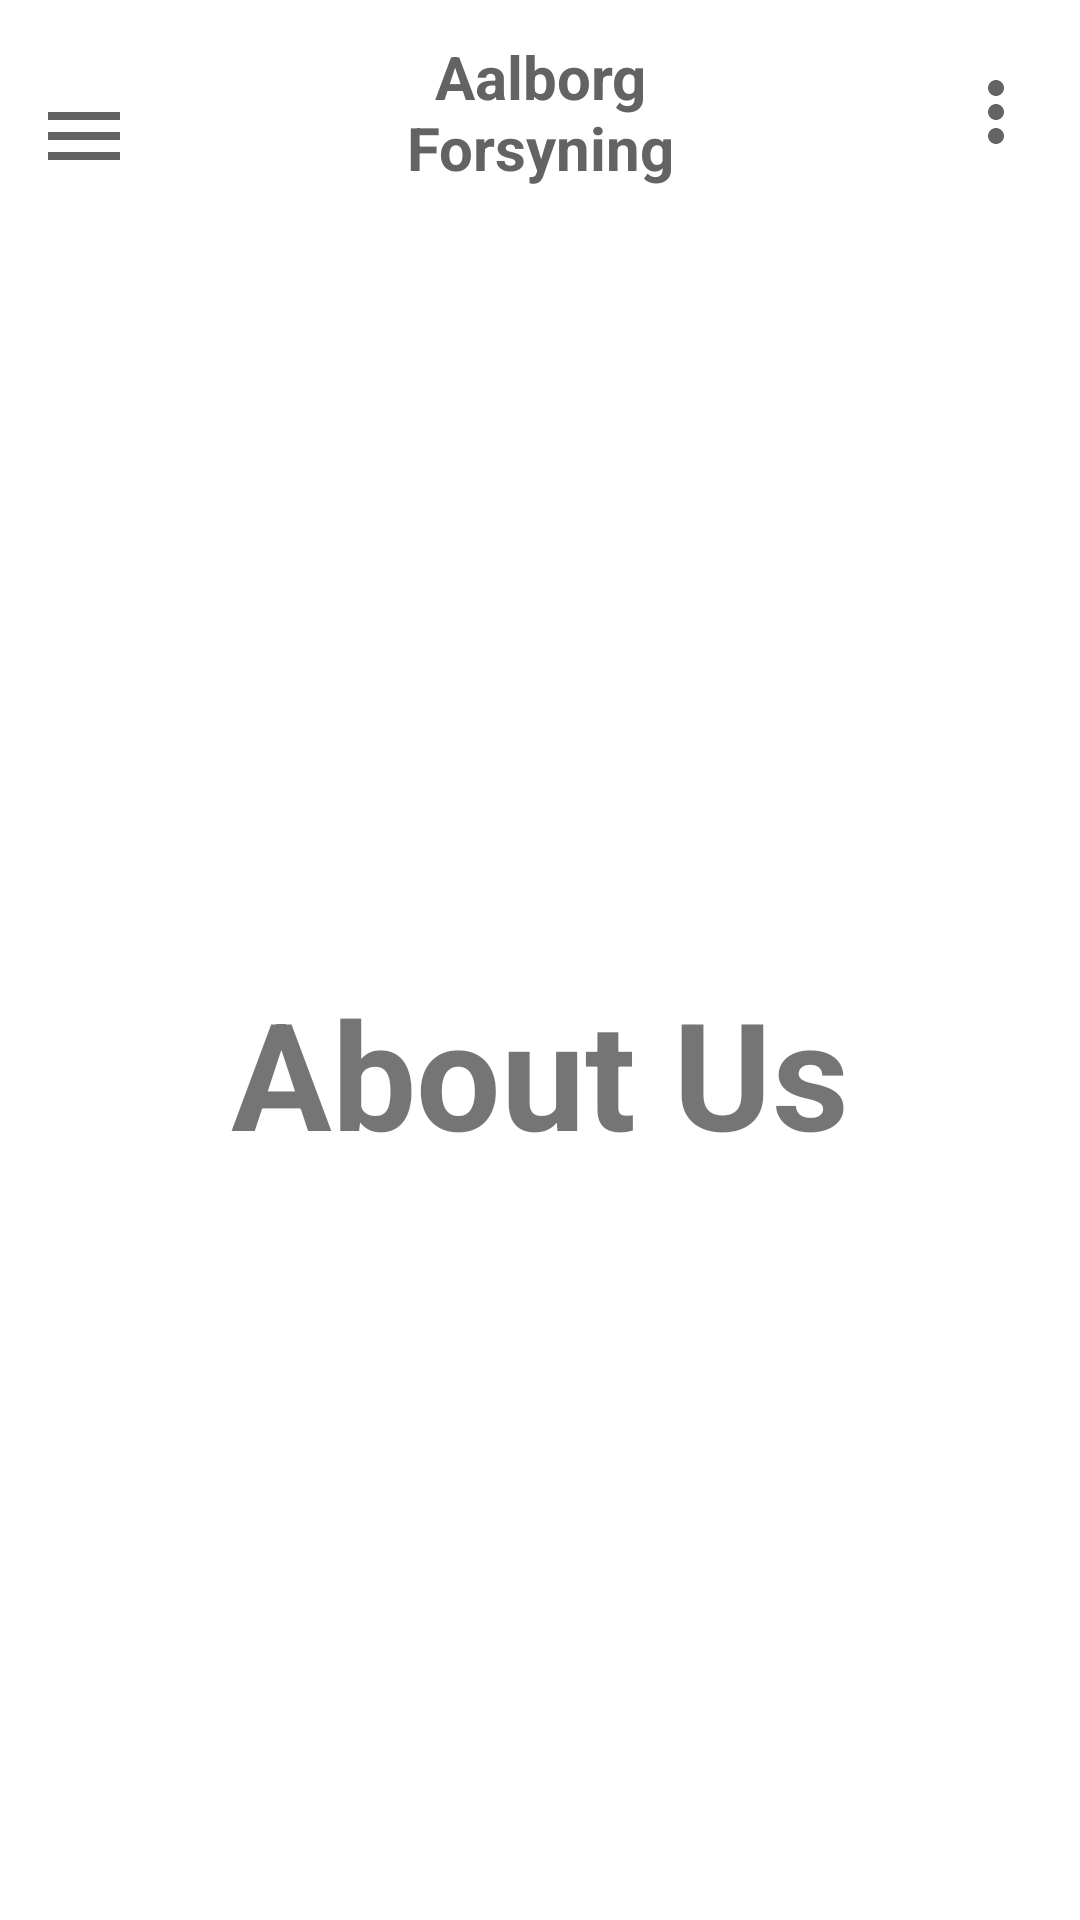

Screen size 1080px×1920px. Icon name, then its box in pixels as Rect(x1, y1, x2, y2):
menu: Rect(48, 112, 120, 160)
more: Rect(988, 80, 1004, 144)
